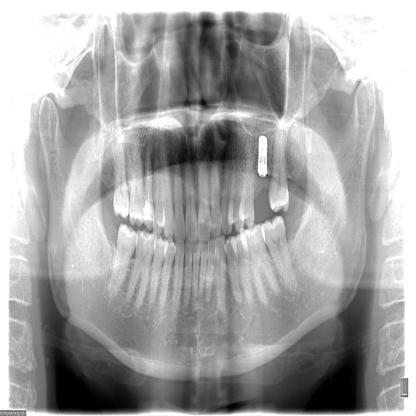ITI: (256, 130, 269, 179)
